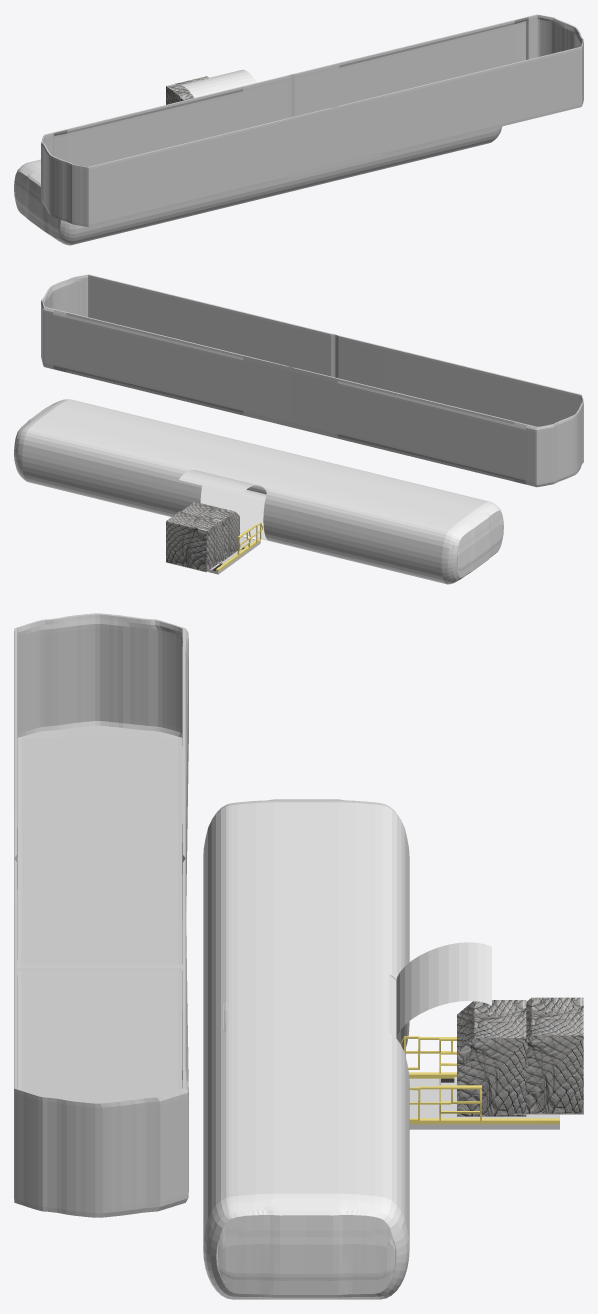
Rendered from deck.fbx.
3 renders of one model, top to bottom at view 1: azimuth 30°, elevation 25°; view 2: azimuth 150°, elevation 25°; view 3: azimuth 270°, elevation 25°, orthographic. The views are drawn at different scales.
Parts seen in each view (by area): view 1: Cube, Cylinder, Cube.005; view 2: Cube, Cylinder, Cube.005, Cube.003, Cube.001; view 3: Cylinder, Cube, Cube.003, Cube.005, Cube.001.
Part boxes in pixels (x1,y1,x2,y2): Cube: (41, 14, 583, 227); Cylinder: (14, 69, 502, 245); Cube.005: (166, 76, 208, 104); Cube: (41, 274, 583, 487); Cylinder: (14, 399, 503, 584); Cube.005: (166, 511, 224, 572); Cube.003: (181, 501, 239, 562); Cube.001: (208, 522, 263, 574); Cylinder: (203, 799, 491, 1299); Cube: (14, 613, 188, 1217); Cube.003: (456, 1000, 526, 1116); Cube.005: (514, 997, 583, 1114); Cube.001: (400, 1036, 559, 1129).
Bounding box in the file's own units: 4048 × 951 × 1989.
